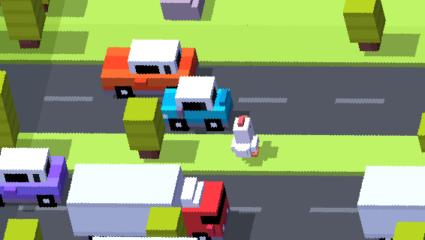hen: (231, 117, 262, 157)
obstacle: (70, 161, 179, 240), (105, 39, 202, 96), (360, 167, 425, 240), (0, 145, 66, 206), (162, 77, 232, 132), (180, 177, 228, 238), (125, 98, 162, 158), (345, 0, 386, 51), (1, 1, 44, 49), (0, 83, 20, 149), (147, 206, 180, 237), (161, 0, 204, 20), (3, 220, 39, 240), (394, 222, 425, 240)
